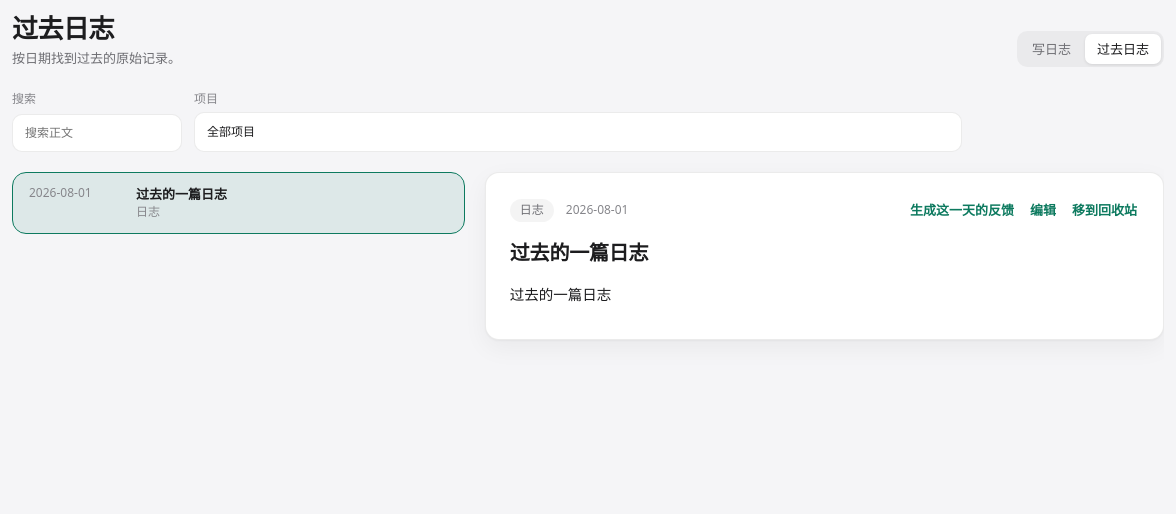
Test: TodayPage › generates a daily review directly from a historical journal
Click the button "生成这一天的反馈" at (962, 210), box [908,197,1016,224]
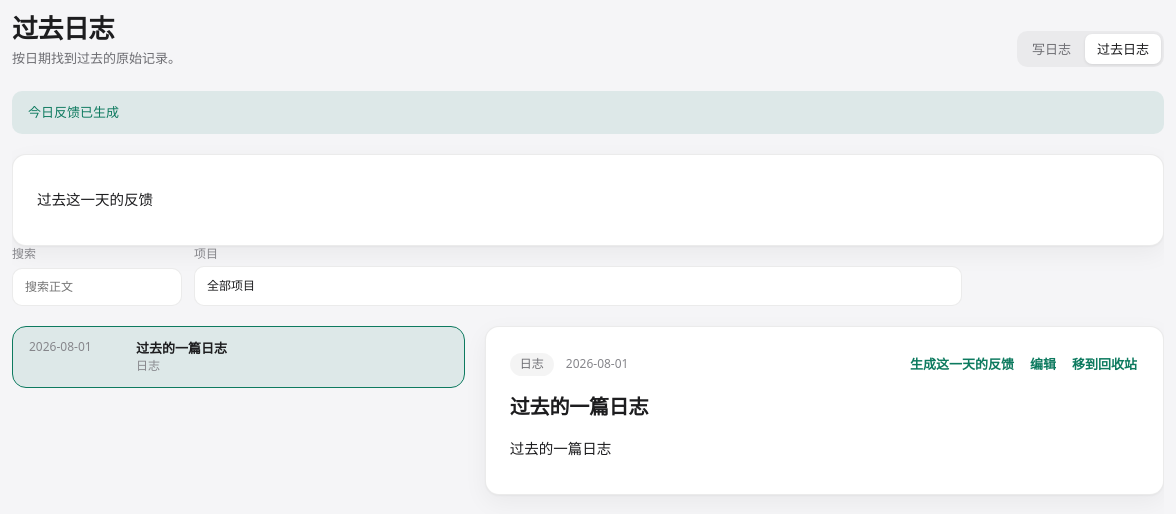
Expected: the text "过去这一天的反馈" is shown, [37,189,153,209]
